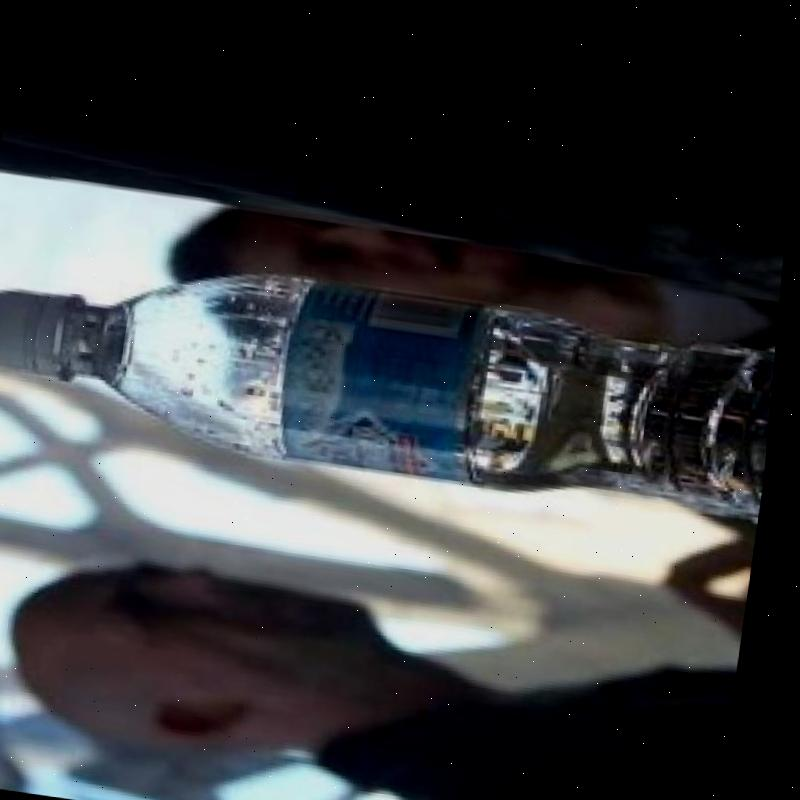botella: (0, 226, 784, 511)
